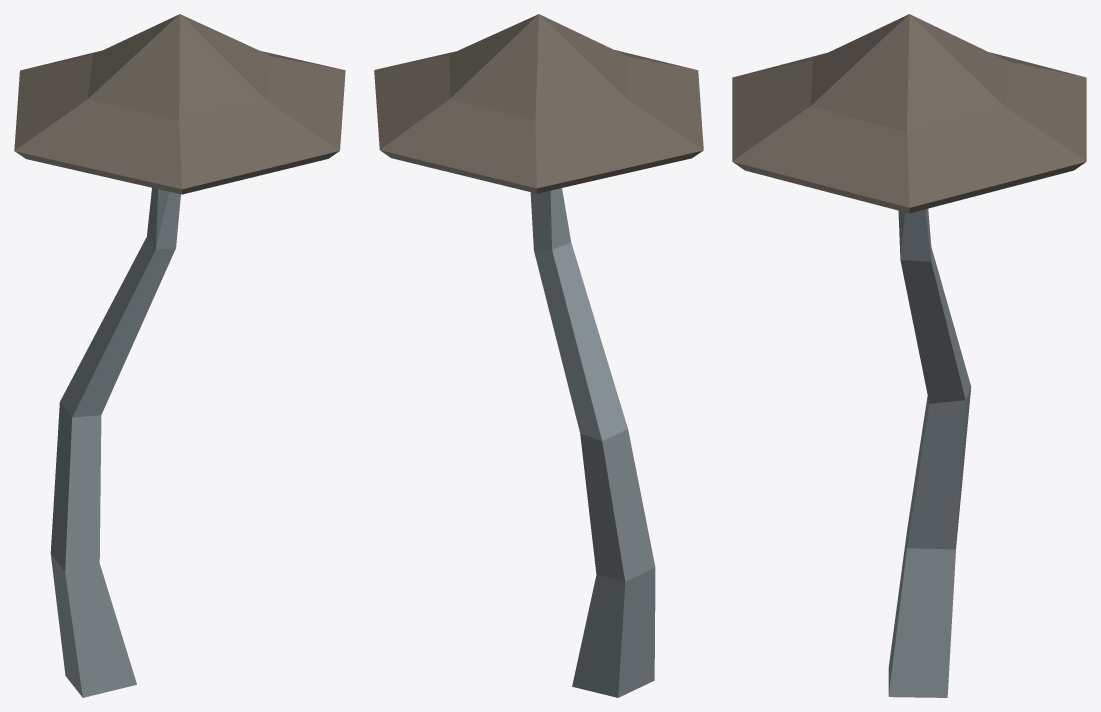
Rendered from Mushroom-C03.fbx.
3 renders of one model, left to right at view 1: azimuth 30°, elevation 25°; view 2: azimuth 150°, elevation 25°; view 3: azimuth 270°, elevation 25°, orthographic. The views are drawn at different scales.
Visible parts, largest first — view 1: Mushroom-C03; view 2: Mushroom-C03; view 3: Mushroom-C03.
Boxes of the visible parts, <box> form: Mushroom-C03: <box>14,14,345,697</box>; Mushroom-C03: <box>374,14,703,697</box>; Mushroom-C03: <box>732,14,1086,697</box>.
Bounding box in the file's own units: 56.58 × 106 × 48.01.
